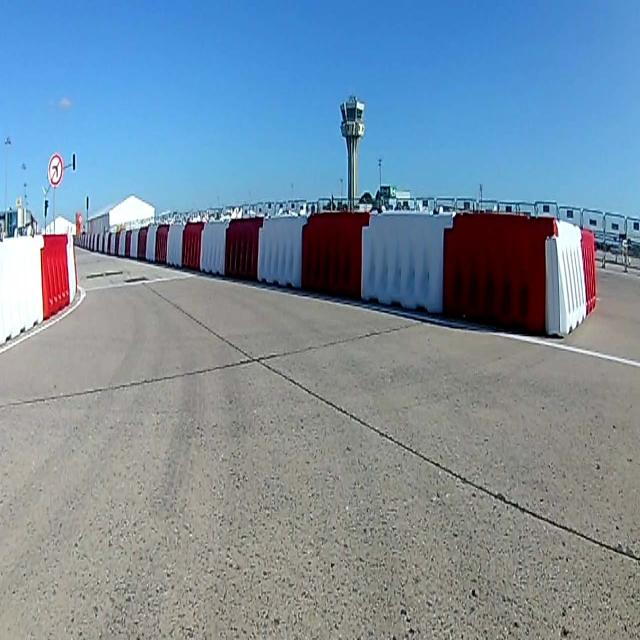soladonulmez: (49, 151, 63, 189)
